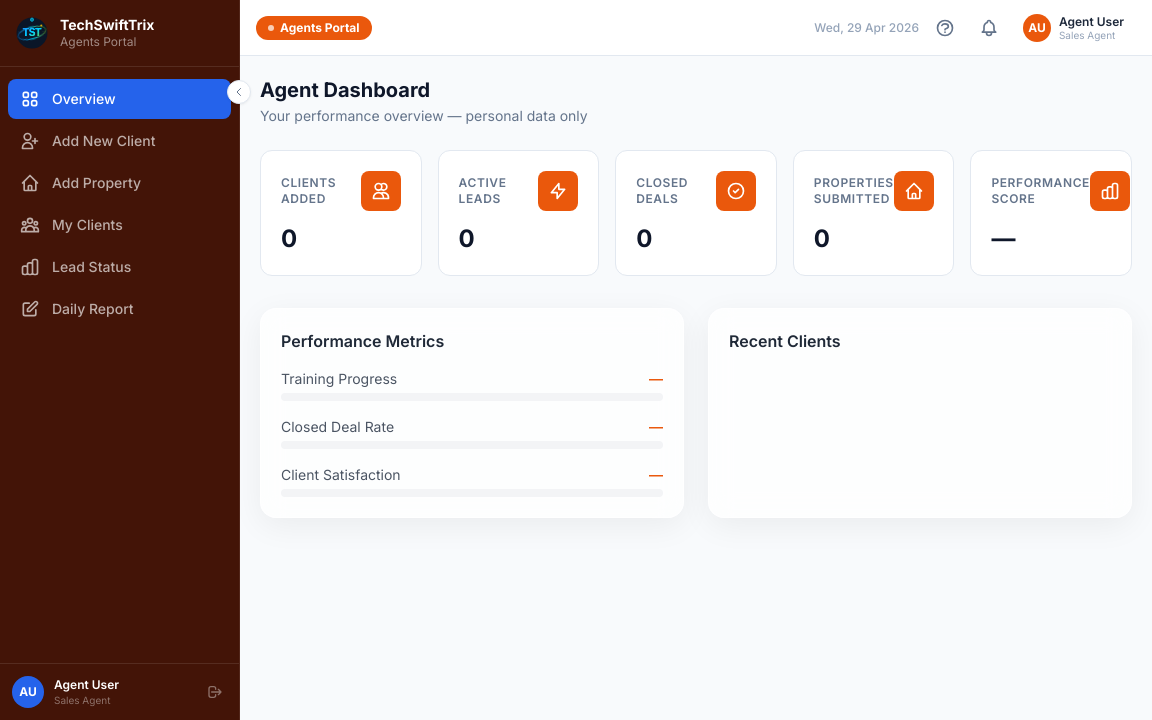
it: AgentsPortal › shows empty clients table when no data
This screenshot has width=1152, height=720.
Click the button "My Clients".
click(120, 224)  # box [8,204,231,244]
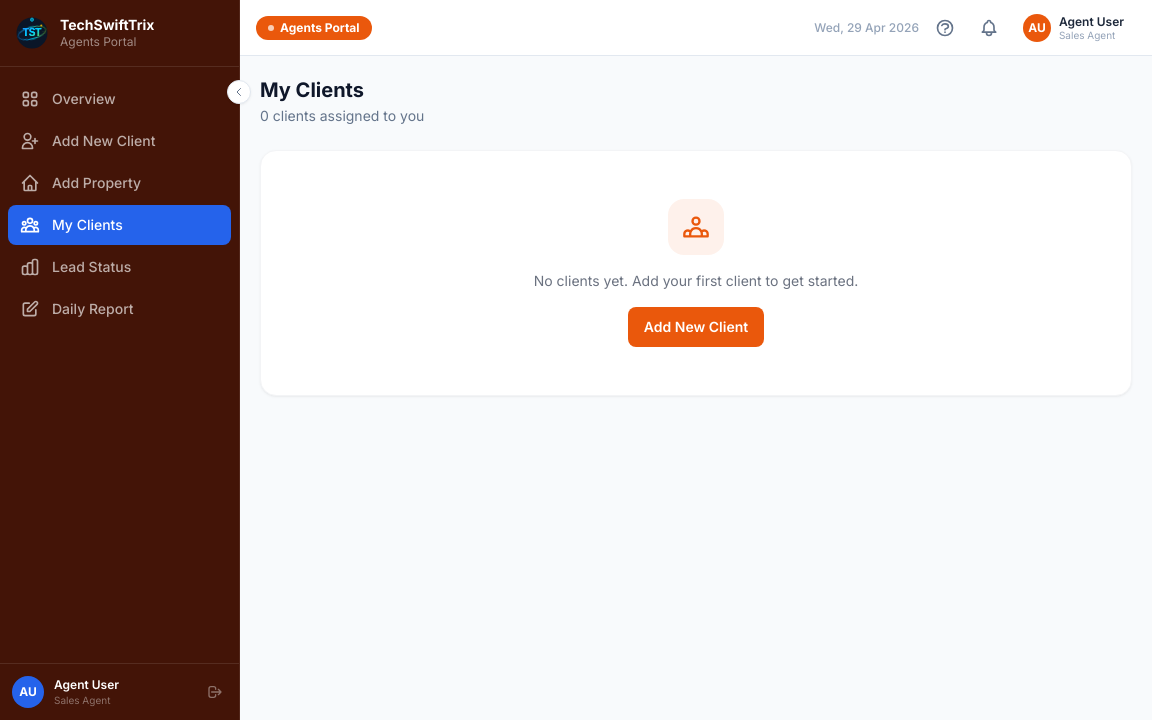
Expected: the text "No clients yet. Add your first client to get started." is shown, [534,272,858,289]
